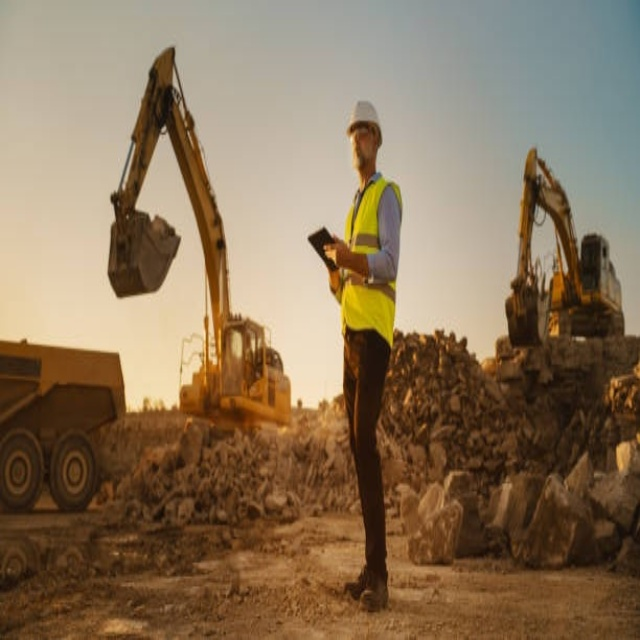Gafas: (350, 124, 373, 140)
Sin_guantes: (323, 232, 350, 275)
